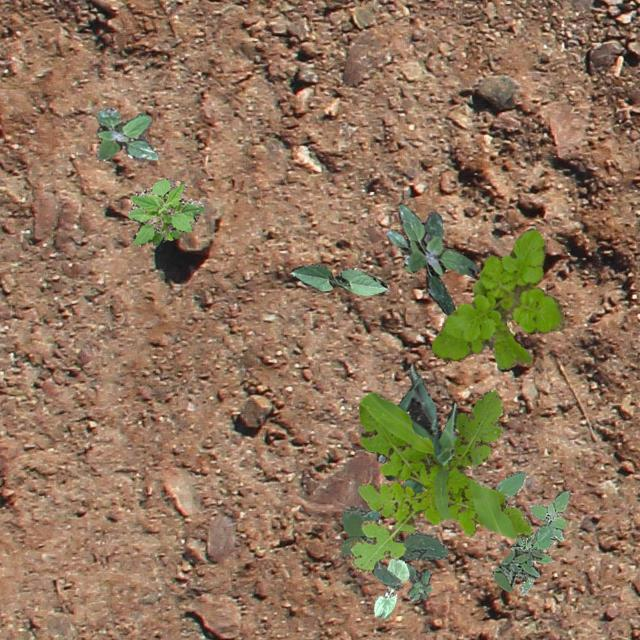crop: (383, 362, 458, 492), (289, 262, 386, 294), (372, 556, 408, 618)
weed: (348, 388, 532, 572), (430, 228, 564, 368), (386, 202, 478, 314), (339, 504, 446, 590), (496, 470, 570, 594), (128, 177, 204, 246), (94, 106, 158, 160), (492, 546, 542, 590), (404, 562, 432, 600), (376, 452, 386, 462)
